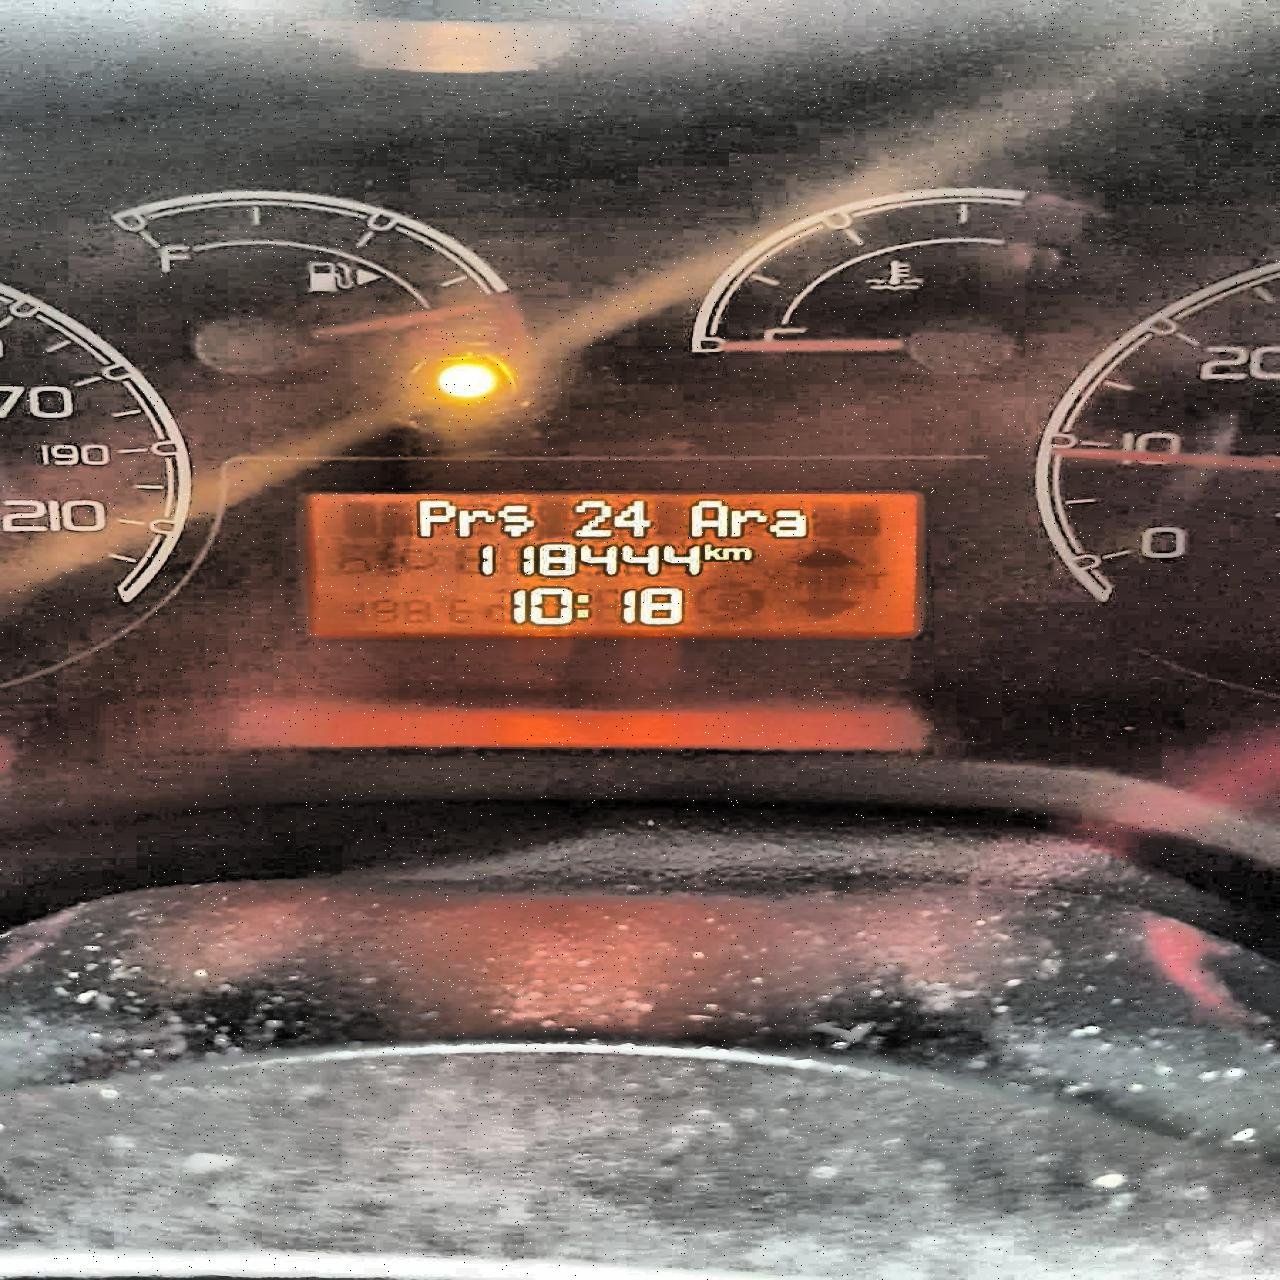0: (529, 585, 572, 627)
1: (508, 585, 527, 626), (617, 585, 635, 626), (475, 543, 497, 577), (517, 543, 537, 577)
2: (572, 497, 613, 538)
4: (614, 497, 652, 536), (660, 543, 703, 576), (578, 542, 619, 576), (621, 543, 659, 577)
8: (636, 584, 683, 627), (538, 542, 576, 577)
X: (416, 498, 455, 538), (495, 502, 537, 538), (688, 499, 727, 538), (769, 509, 808, 539), (456, 508, 492, 538), (728, 506, 763, 536), (574, 592, 594, 620), (720, 545, 749, 560), (702, 542, 719, 560)
odometer: (298, 489, 933, 645)
